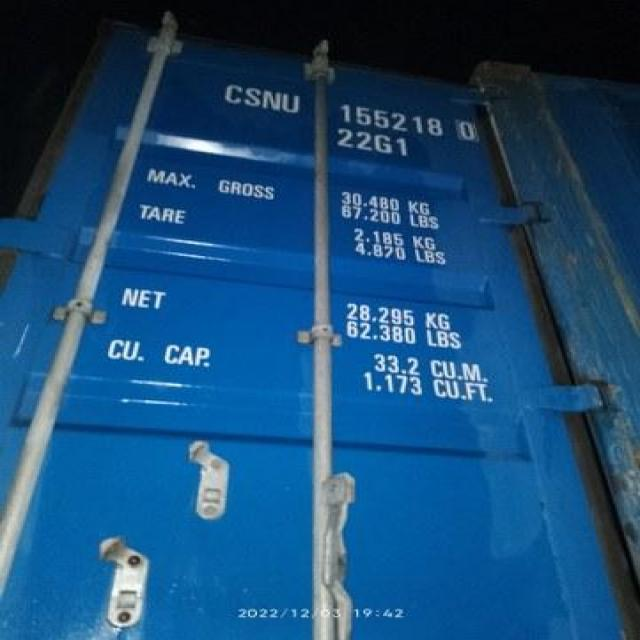container_number_h: (197, 74, 546, 176)
